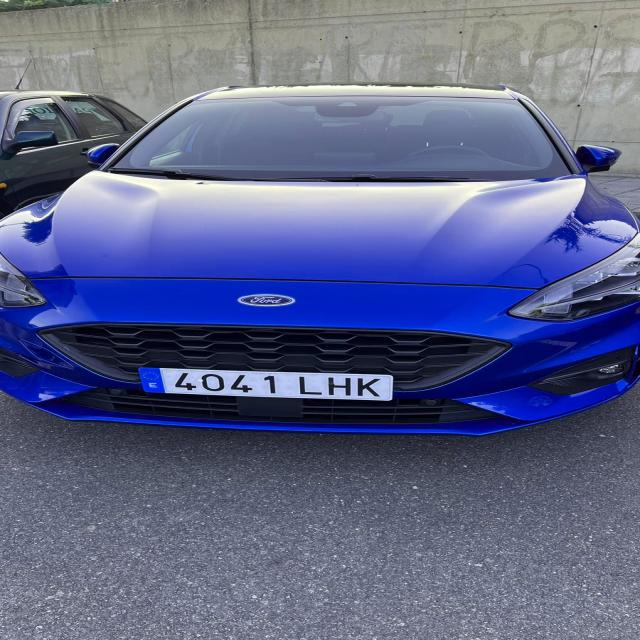License-Plate: (138, 366, 394, 403)
